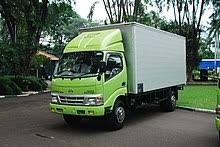truck: (40, 26, 143, 133)
